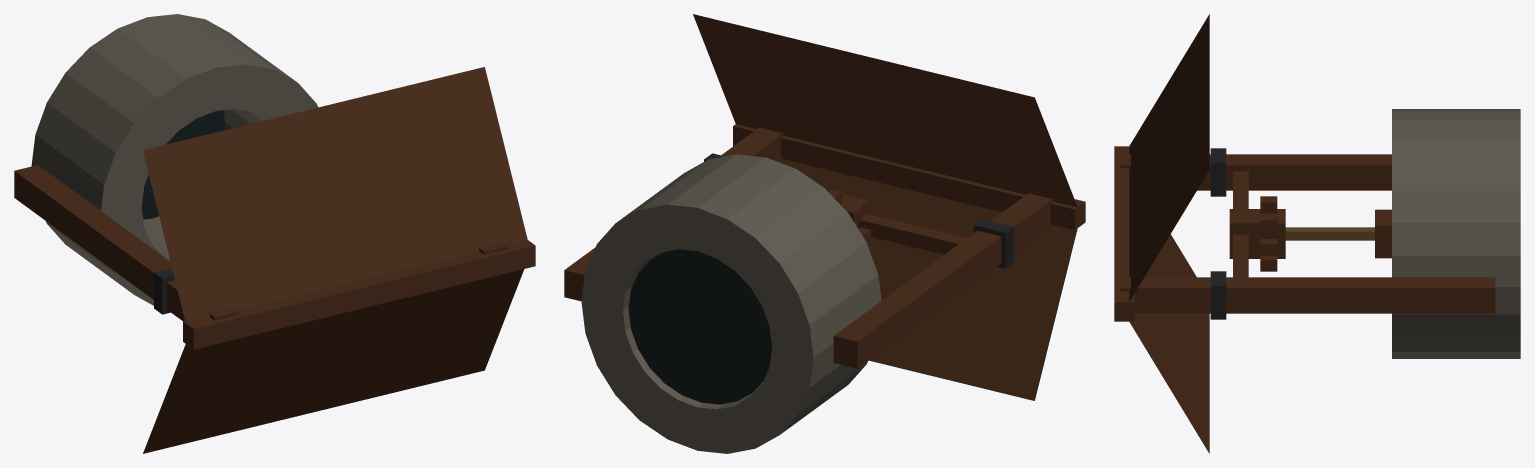
File: SM_VillageWell1348_LOD0.obj
3 renders of one model, left to right at view 1: azimuth 30°, elevation 25°; view 2: azimuth 150°, elevation 25°; view 3: azimuth 270°, elevation 25°, orthographic. The views are drawn at different scales.
Visible parts, largest first — view 1: SM_VillageWell1348_LOD0; view 2: SM_VillageWell1348_LOD0; view 3: SM_VillageWell1348_LOD0.
Part boxes in pixels (left/top/right/bottom): SM_VillageWell1348_LOD0: left=14, top=14, right=535, bottom=453; SM_VillageWell1348_LOD0: left=564, top=14, right=1085, bottom=453; SM_VillageWell1348_LOD0: left=1114, top=14, right=1520, bottom=453.
Size of the model in its own units: 3.3 by 2.8 by 3.63.
